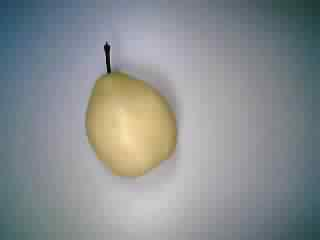pear: (78, 36, 183, 186)
